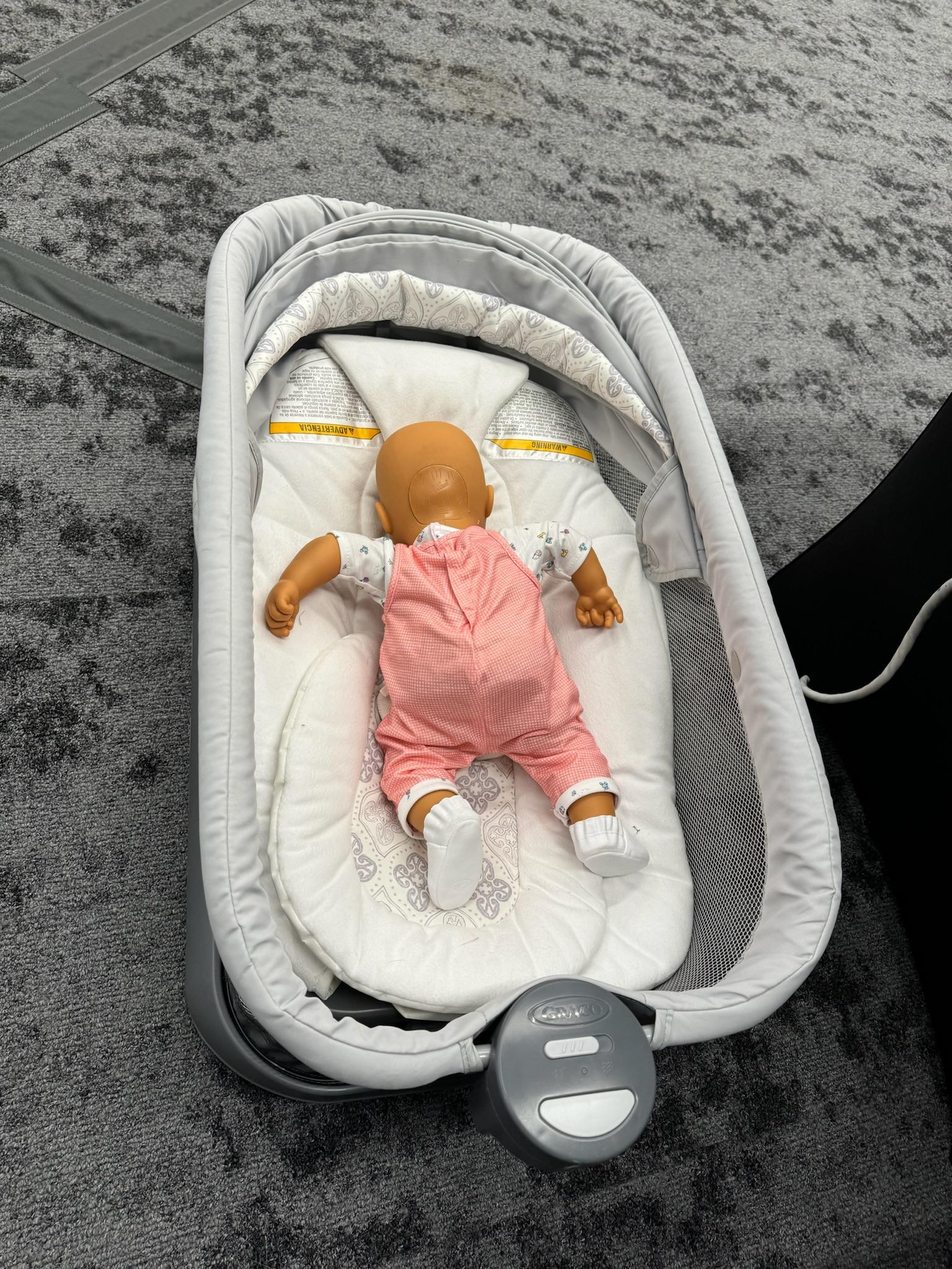baby: (271, 418, 660, 896)
